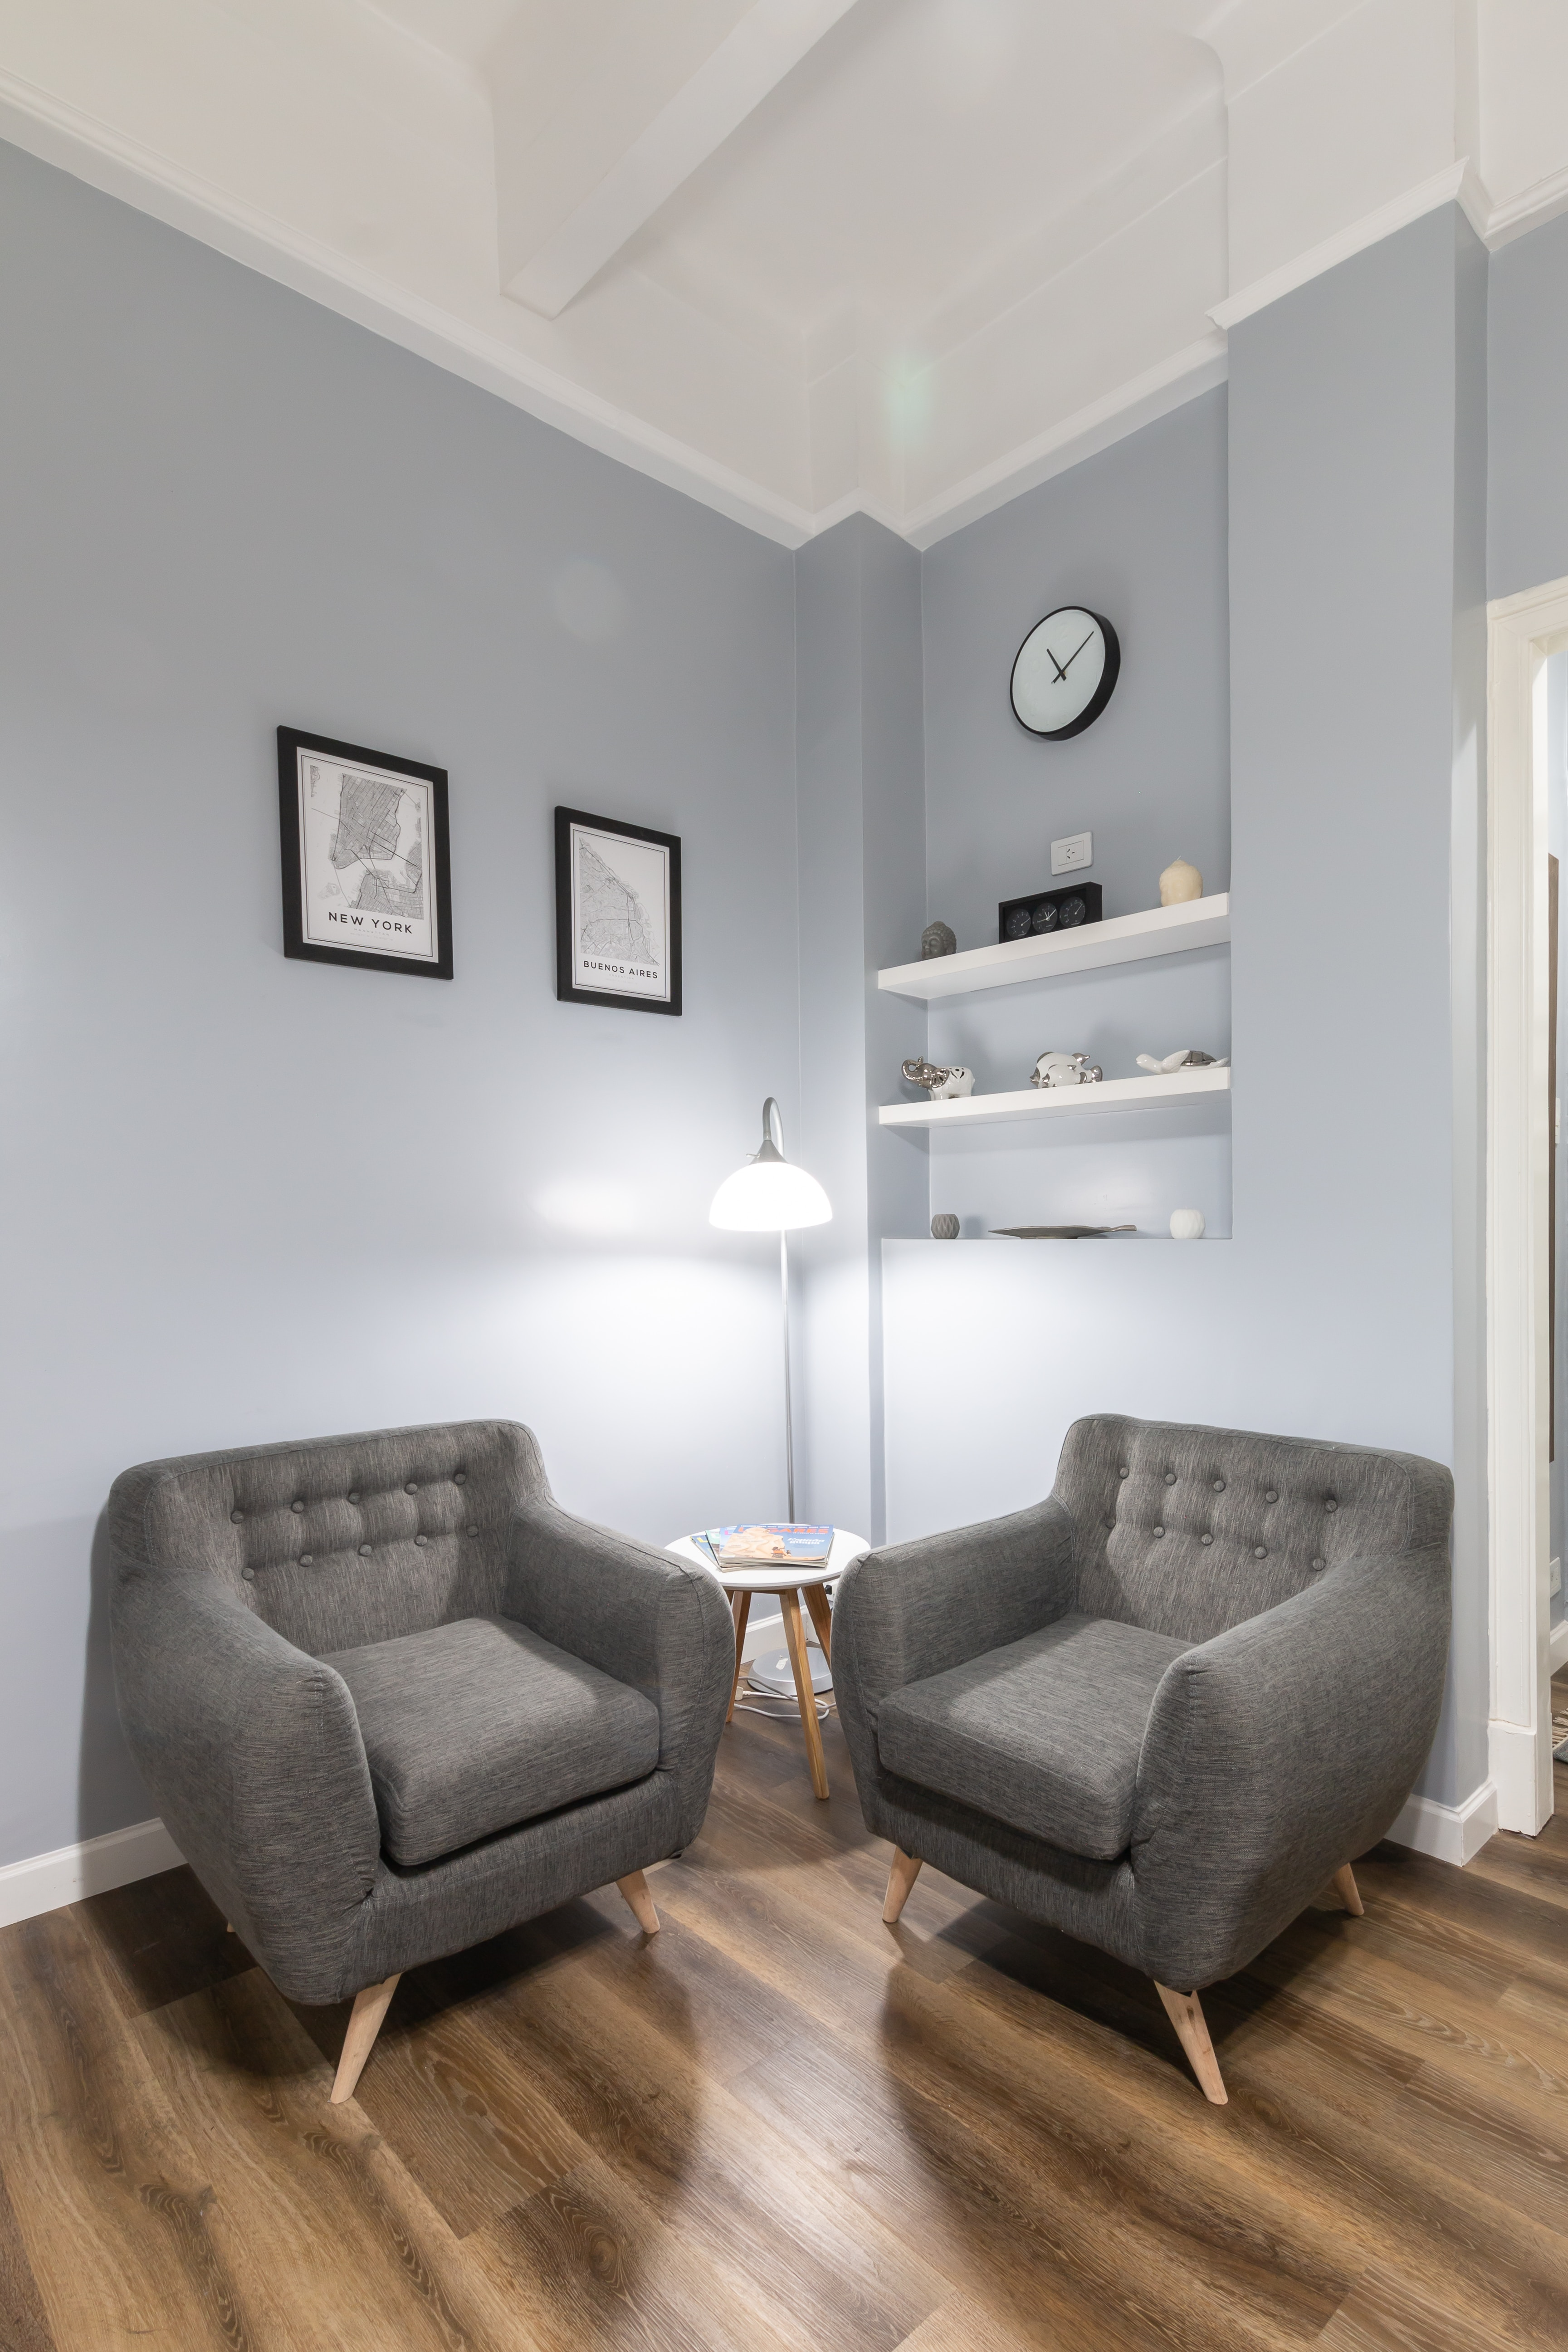Chair: (91, 1421, 745, 2123), (826, 1391, 1465, 2107)
Painting: (262, 709, 478, 997), (541, 782, 693, 1034)
